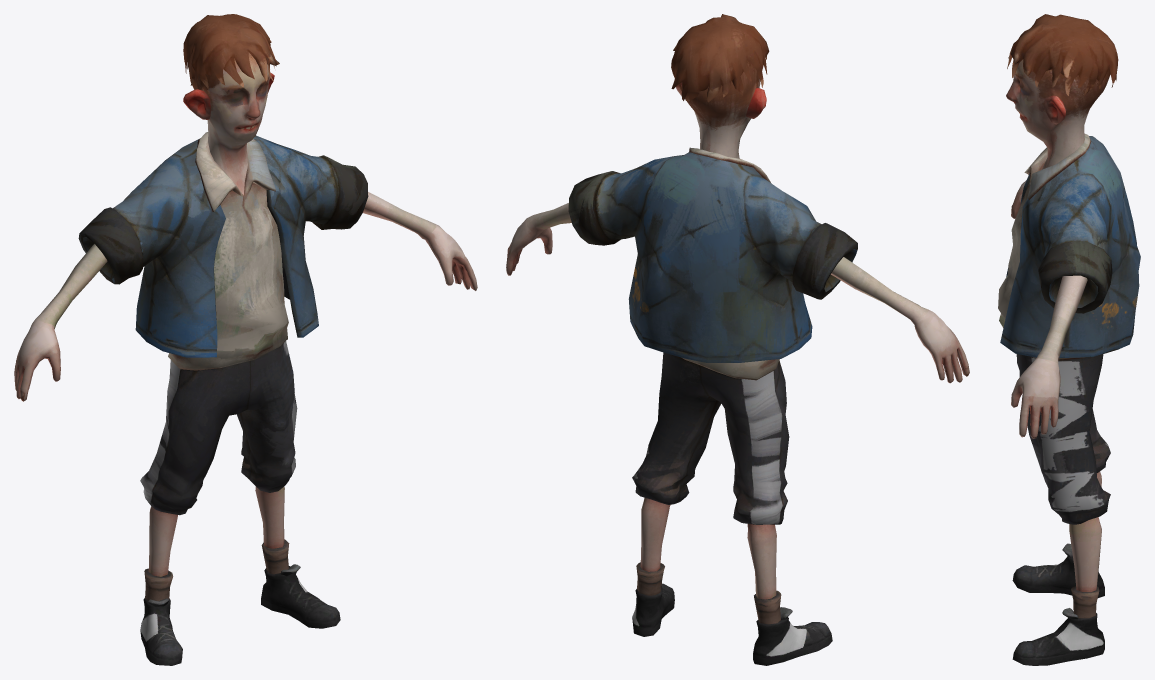
File: Cuno.obj
3 renders of one model, left to right at view 1: azimuth 30°, elevation 25°; view 2: azimuth 150°, elevation 25°; view 3: azimuth 270°, elevation 25°, orthographic.
Visible parts, largest first — view 1: Cuno; view 2: Cuno; view 3: Cuno.
Boxes of the visible parts, x1,y1,x2,y2 form: Cuno: [14, 14, 477, 665]; Cuno: [506, 14, 969, 665]; Cuno: [998, 14, 1140, 665].
Bounding box in the file's own units: 1.12 × 1.44 × 0.3086.
Materials: 1 (1 with a texture image).
